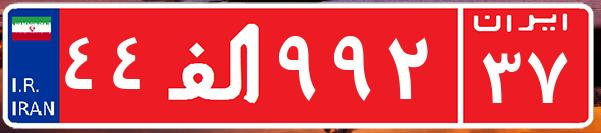2: (385, 28, 445, 110)
3: (475, 38, 525, 113)
4: (57, 26, 110, 107), (110, 28, 158, 105)
7: (525, 38, 570, 115)
9: (273, 28, 330, 110), (330, 28, 385, 110)
الف: (158, 15, 273, 115)
